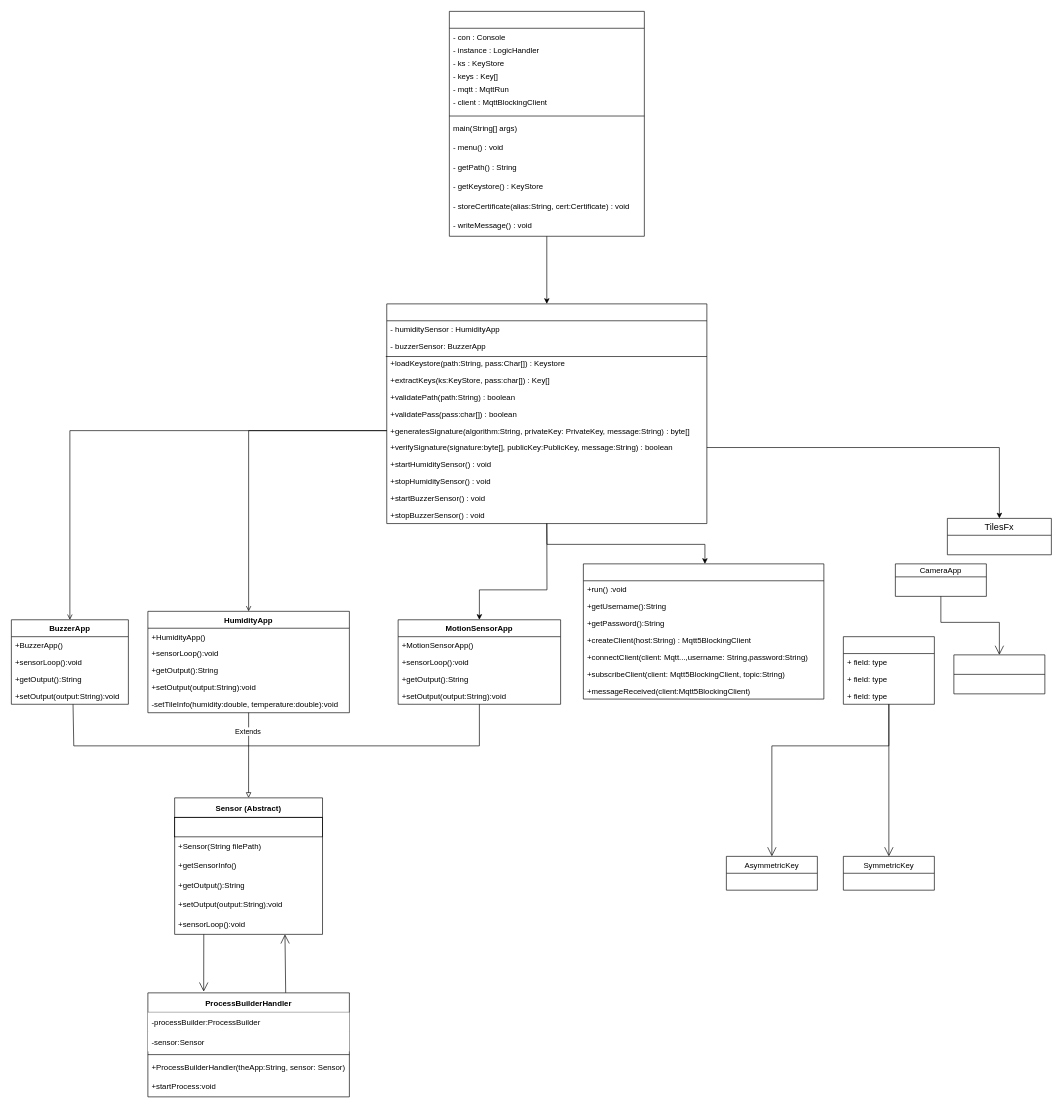
Image size: 1063x1108. Some labels were removed from this diagram. Here are the shapes that lost their labels. From the top down, the box of each, then its label:
(449, 11, 644, 236): ConsoleApp
(386, 303, 707, 524): LogicHandler
(583, 563, 824, 699): MQTTHandler
(843, 636, 934, 704): KeyStoreHandler
(953, 654, 1045, 694): Camera
(174, 817, 323, 837): -filePath:String
